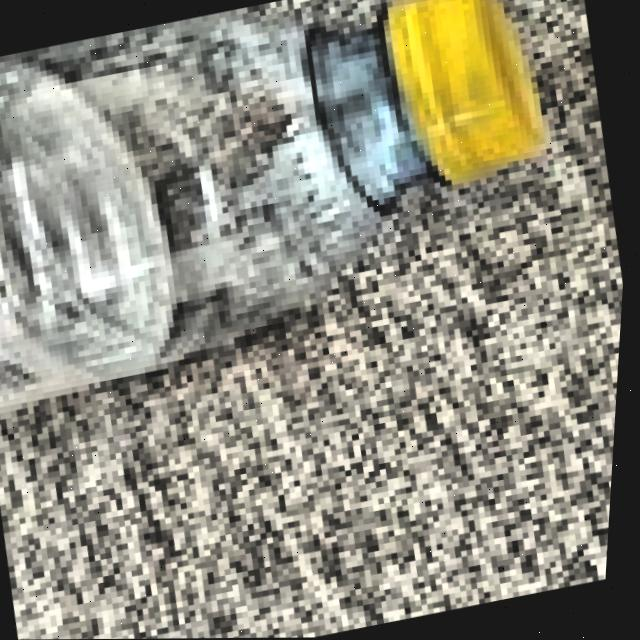plastic: (0, 0, 640, 443)
